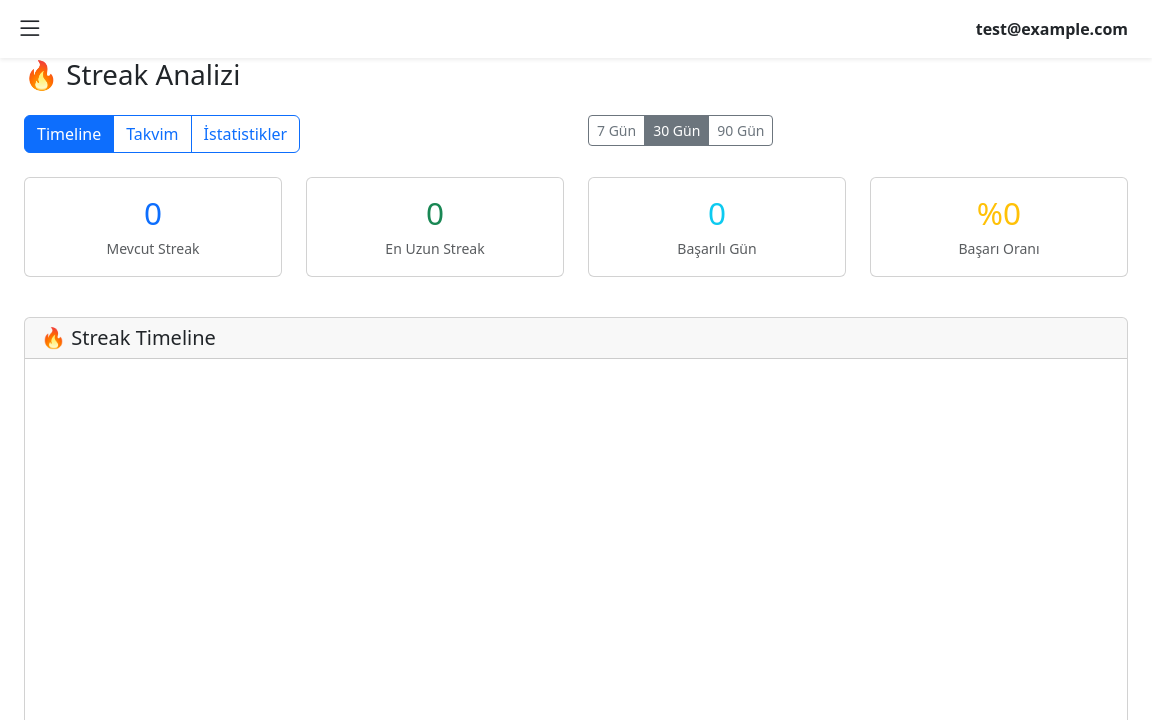
it: StreakChart Component › View Type Switching › should switch to stats view
This screenshot has width=1152, height=720.
Click the button "İstatistikler" at (245, 134), box [190,115,300,153]
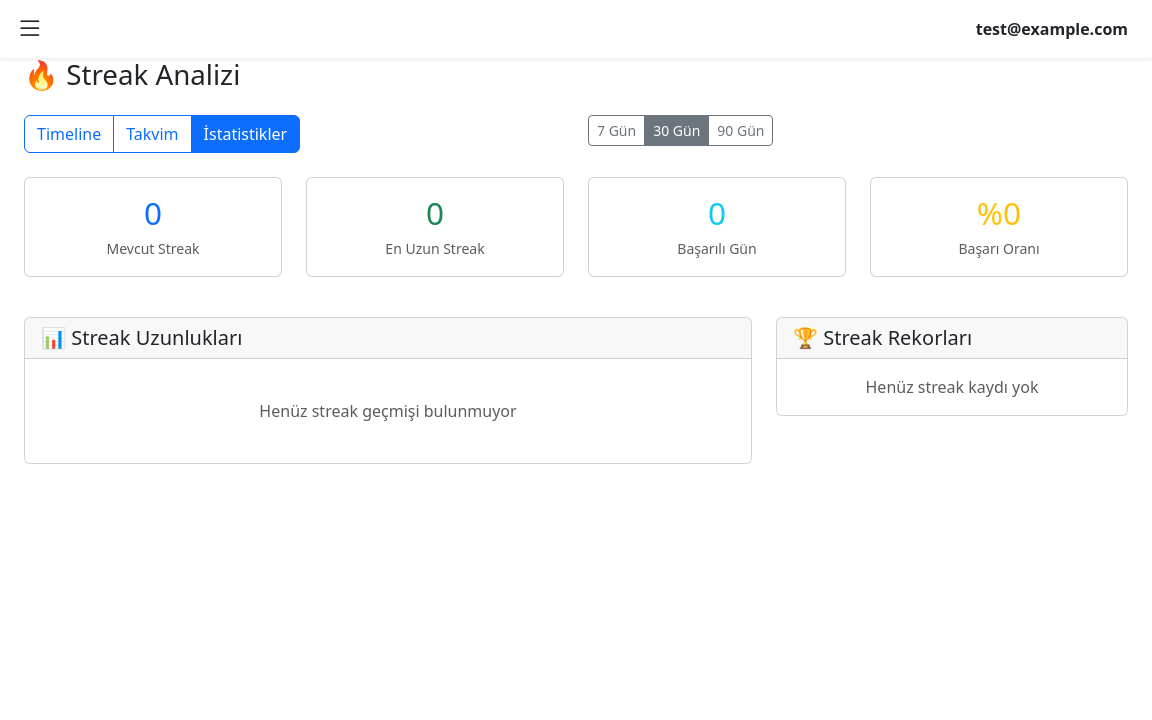
Check: the heading "📊 Streak Uzunlukları" is shown, box [41,324,242,351]
Check: the heading "🏆 Streak Rekorları" is shown, box [793,324,972,351]
